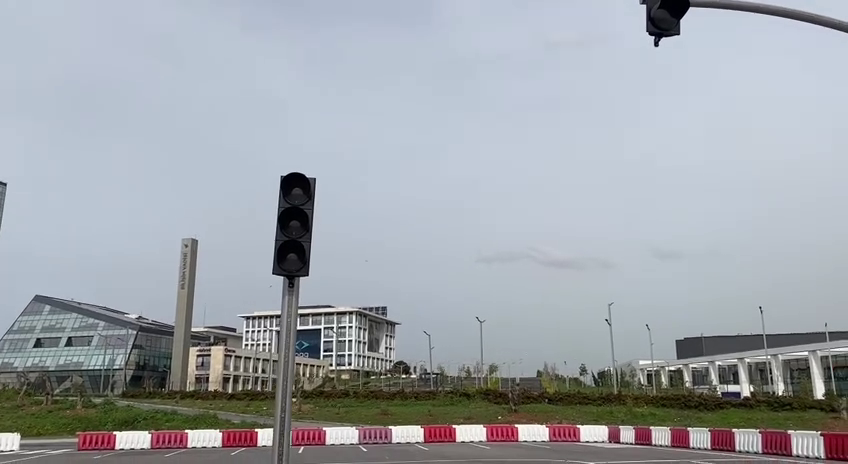trafficLight: (267, 169, 319, 281), (640, 1, 693, 49)
